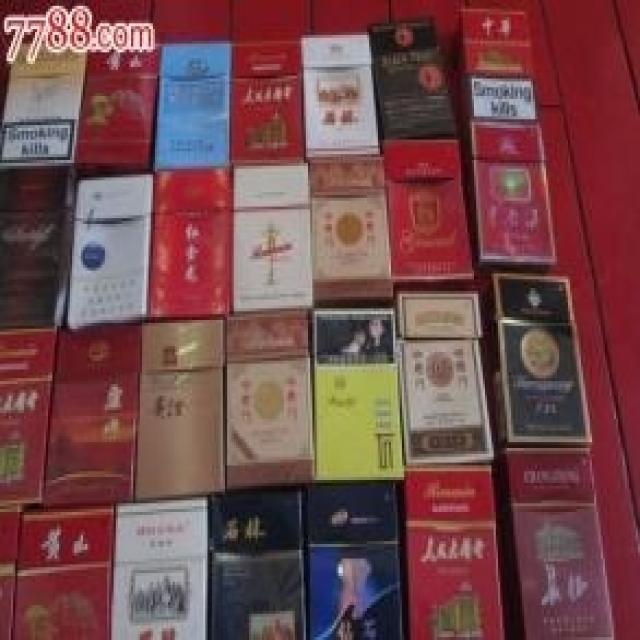box: (505, 448, 614, 640), (485, 273, 592, 445), (44, 326, 142, 509), (406, 465, 505, 640), (400, 294, 494, 465), (138, 320, 225, 500), (315, 308, 404, 480), (227, 314, 312, 492), (306, 486, 402, 640), (210, 492, 306, 640), (114, 500, 208, 640), (68, 175, 153, 329), (17, 509, 111, 640), (382, 143, 472, 279), (0, 169, 76, 326), (308, 157, 391, 300), (472, 122, 555, 265), (151, 172, 232, 317), (229, 166, 310, 311), (371, 17, 457, 143), (0, 44, 87, 166), (0, 332, 57, 503), (76, 47, 157, 166), (153, 44, 229, 169), (304, 35, 378, 157), (232, 41, 304, 166), (461, 9, 535, 119), (0, 506, 20, 640)
